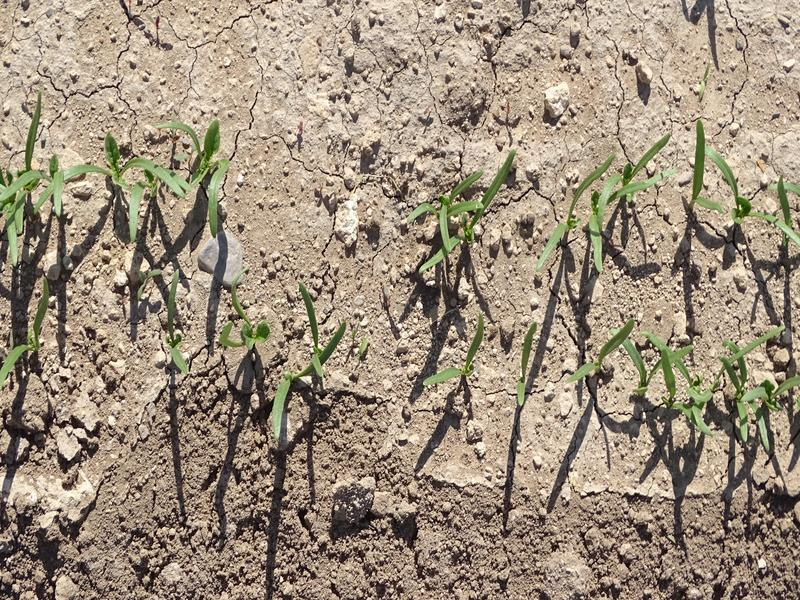Espinaca: (402, 138, 799, 262), (1, 115, 242, 246), (572, 321, 795, 447), (273, 284, 339, 443), (1, 278, 64, 380), (418, 315, 485, 389), (209, 313, 273, 359), (162, 283, 187, 373), (511, 322, 530, 402)
